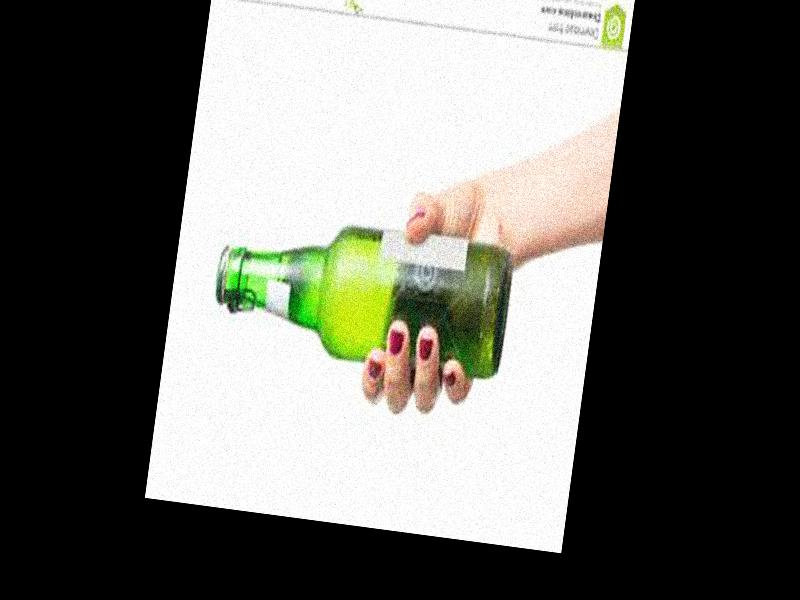Beer: (206, 203, 517, 380)
